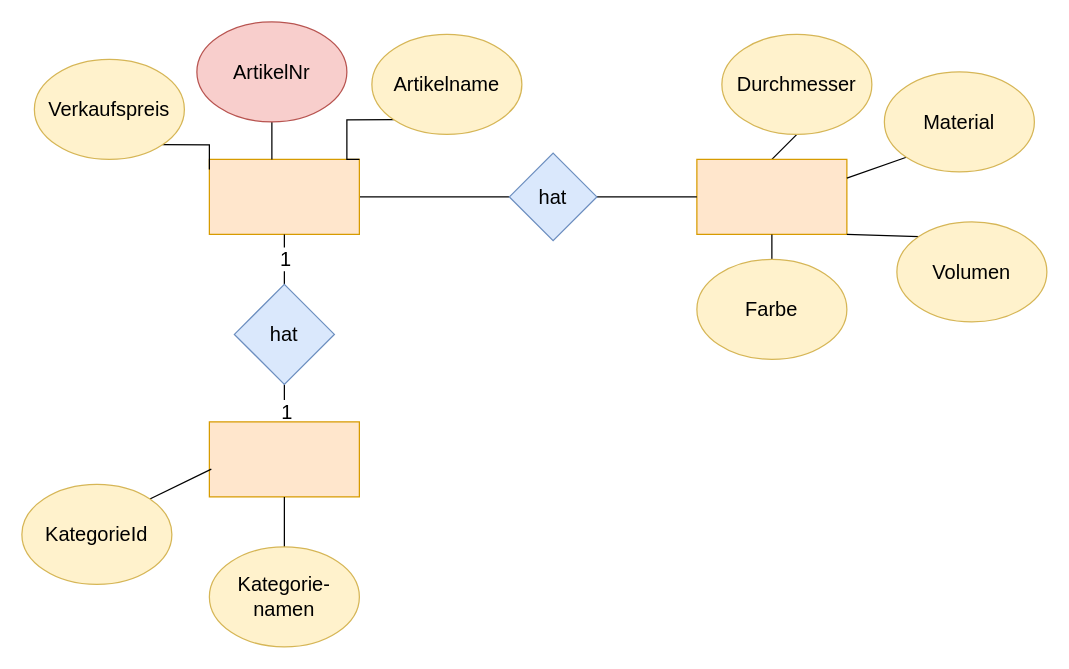
The diagram is 1069 pixels wide and 669 high, and some of its shapes have lost their labels. Here are the shapes that lost their labels. From the top down, the centre of each, then its label:
point (283, 196): Artikel
point (771, 196): Attribute
point (283, 459): Kategorie
